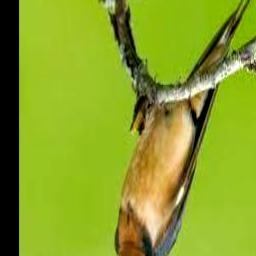Swallow: (114, 0, 256, 256)
